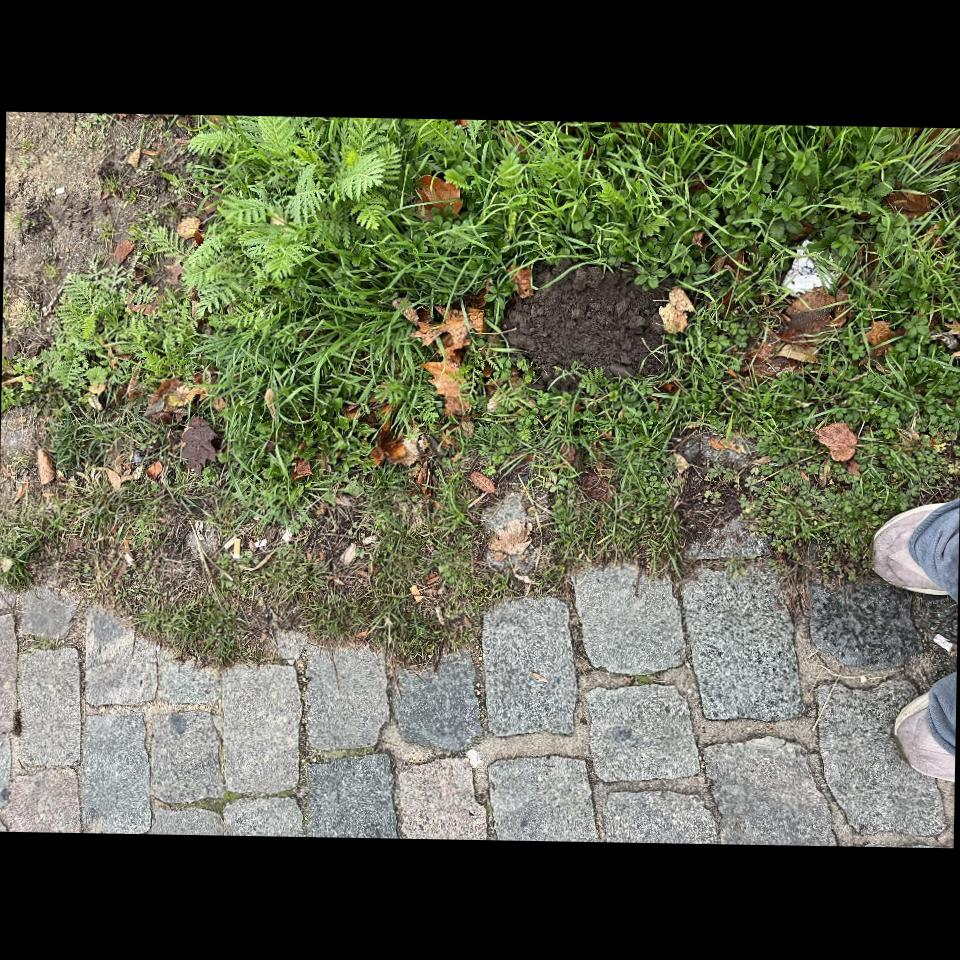weed: (99, 519, 509, 664), (743, 465, 925, 573), (550, 430, 679, 564), (137, 594, 254, 662), (567, 486, 645, 565)
